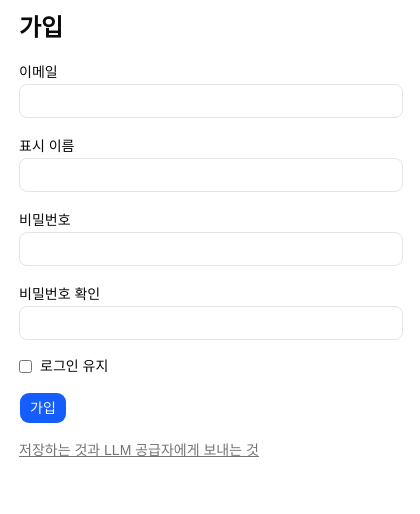
SignUpPage › 비밀번호 규칙을 어기면 그 까닭을 보인다
This screenshot has width=420, height=514.
Type "kim@example.com" into the field labelled "이메일" at (211,101), box top-left (19, 84), bottom-right (403, 118)
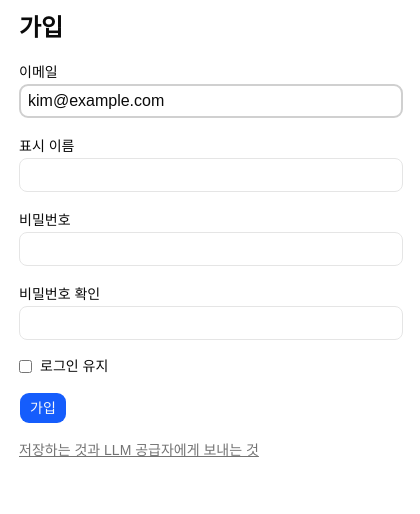
Type "김요즘" into the field labelled "표시 이름" at (211,175), box top-left (19, 158), bottom-right (403, 192)
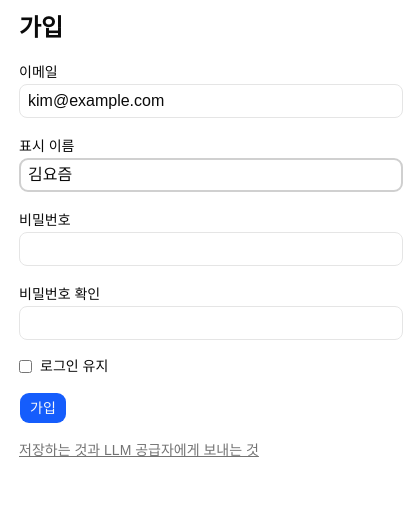
Type "short" into the password field labelled "비밀번호" at (211,249), box top-left (19, 232), bottom-right (403, 266)
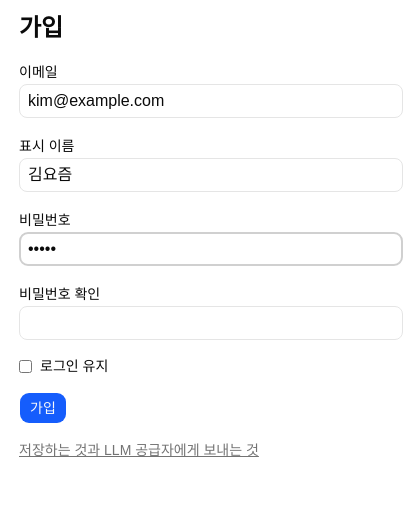
Type "short" into the password field labelled "비밀번호 확인" at (211,323), box top-left (19, 306), bottom-right (403, 340)
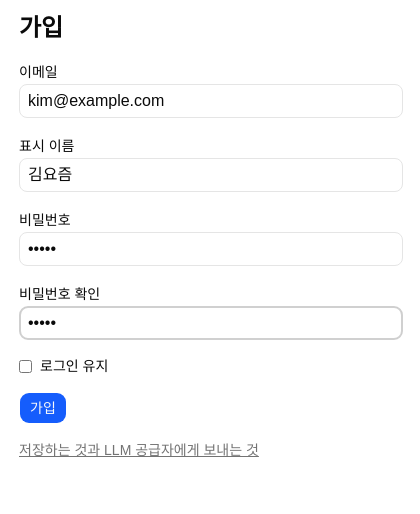
Click the checkbox labelled "로그인 유지" at (26,366), box top-left (19, 360), bottom-right (32, 372)
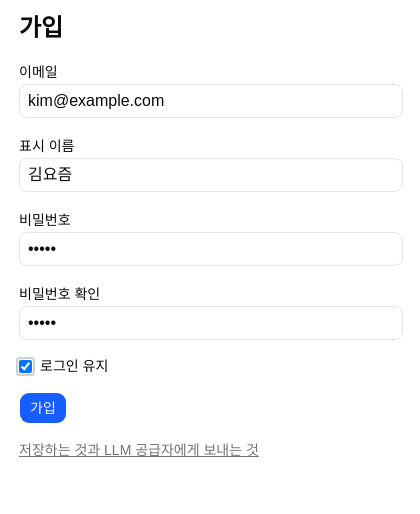
Click the button "가입" at (43,408), box top-left (19, 392), bottom-right (67, 424)
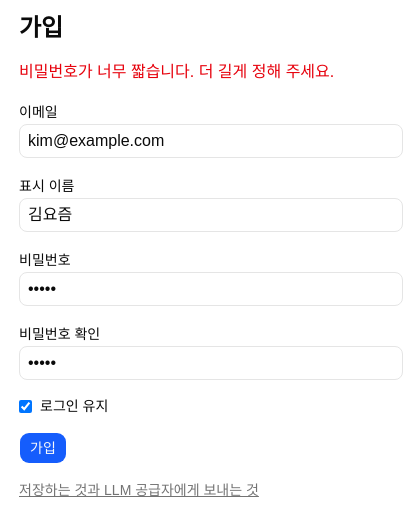
Check: the message reads "비밀번호가 너무 짧습니다. 더 길게 정해 주세요.", box top-left (19, 63), bottom-right (334, 80)
